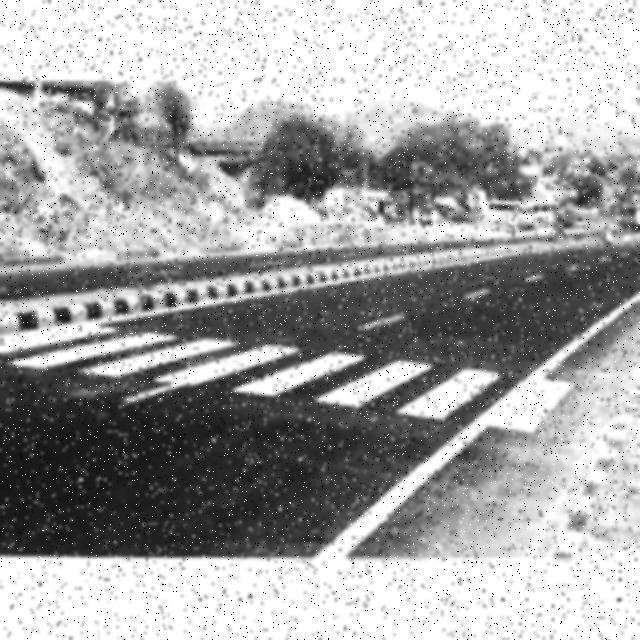Pedestrian crosswalk: (3, 328, 583, 432)
